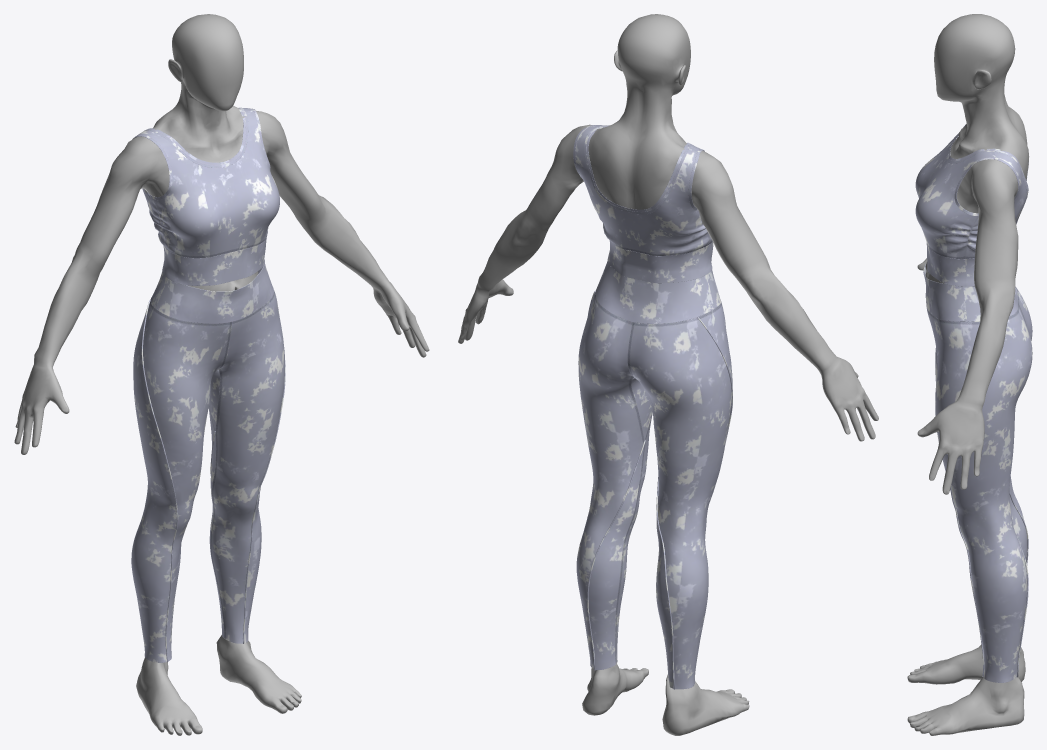
File: final_women_gym.glb
3 renders of one model, left to right at view 1: azimuth 30°, elevation 25°; view 2: azimuth 150°, elevation 25°; view 3: azimuth 270°, elevation 25°, orthographic.
Visible parts, largest first — view 1: women_gym; view 2: women_gym; view 3: women_gym.
Boxes of the visible parts, x1,y1,x2,y2 form: women_gym: (14, 14, 429, 735); women_gym: (458, 14, 878, 735); women_gym: (907, 14, 1032, 735).
Size of the model in its own units: 5.9 by 9.53 by 1.57.
Materials: 2 (1 with a texture image).
